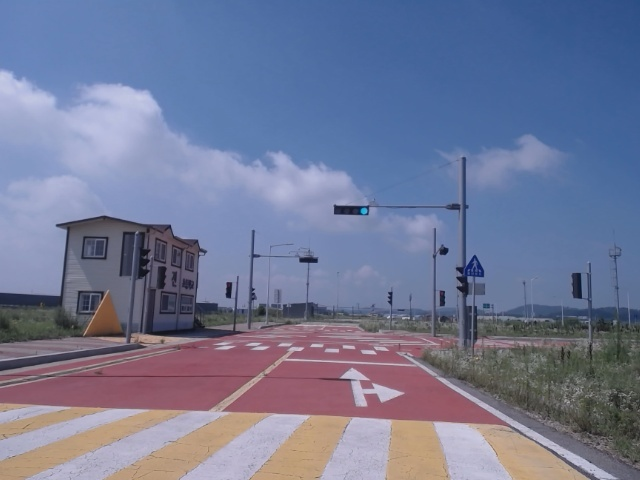straight_green_4: (334, 206, 369, 215)
